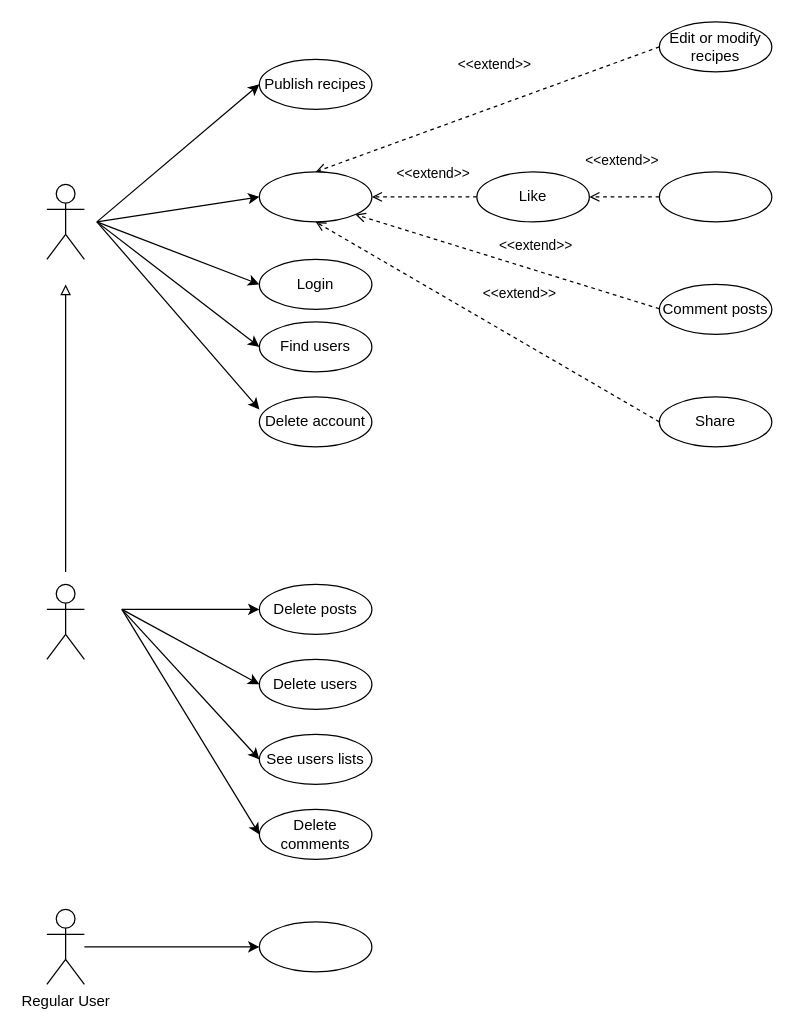
The diagram is 794 pixels wide and 1033 high, and some of its shapes have lost their labels. Here are the shapes that lost their labels. From the top down, the box of each, then its label:
(258, 171, 372, 222): Find recipes
(658, 171, 772, 222): Dislike
(46, 183, 84, 259): Logged user
(46, 583, 84, 659): Admin
(258, 921, 372, 972): Sign in
